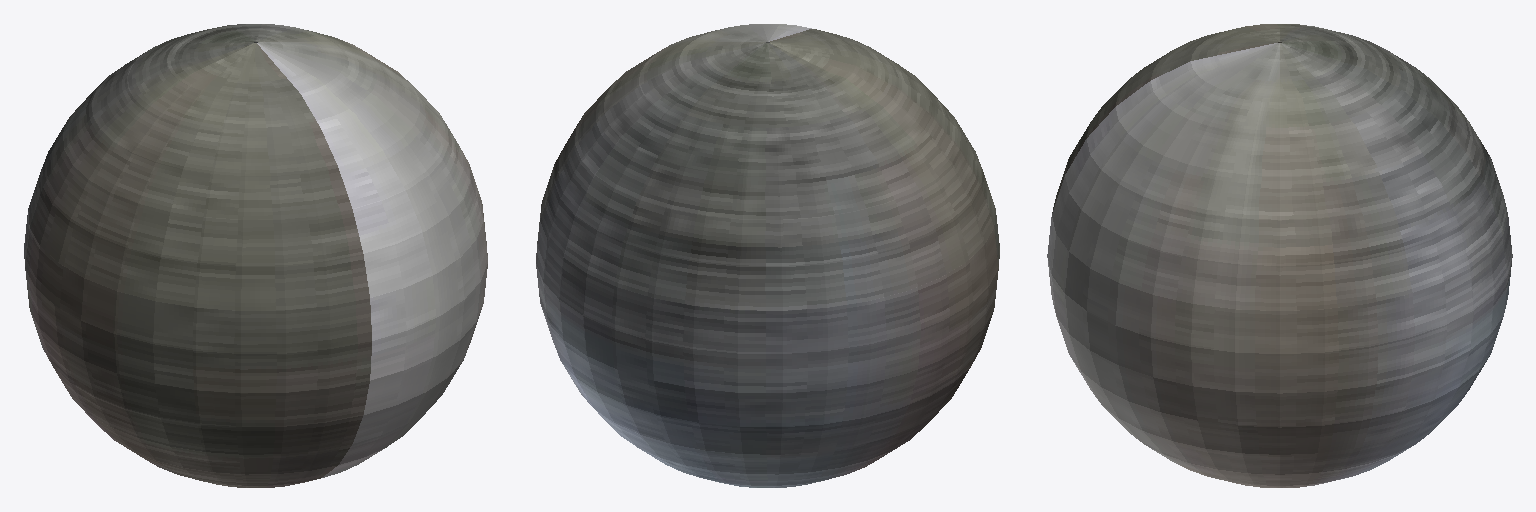
3 renders of one model, left to right at view 1: azimuth 30°, elevation 25°; view 2: azimuth 150°, elevation 25°; view 3: azimuth 270°, elevation 25°, orthographic.
Parts seen in each view (by area): view 1: Sphere.001; view 2: Sphere.001; view 3: Sphere.001.
Part boxes in pixels (x1,y1,x2,y2): Sphere.001: (24, 24, 487, 487); Sphere.001: (536, 24, 999, 487); Sphere.001: (1047, 24, 1512, 487).
Bounding box in the file's own units: 0.375 × 0.3795 × 0.375.
Materials: 1 (1 with a texture image).